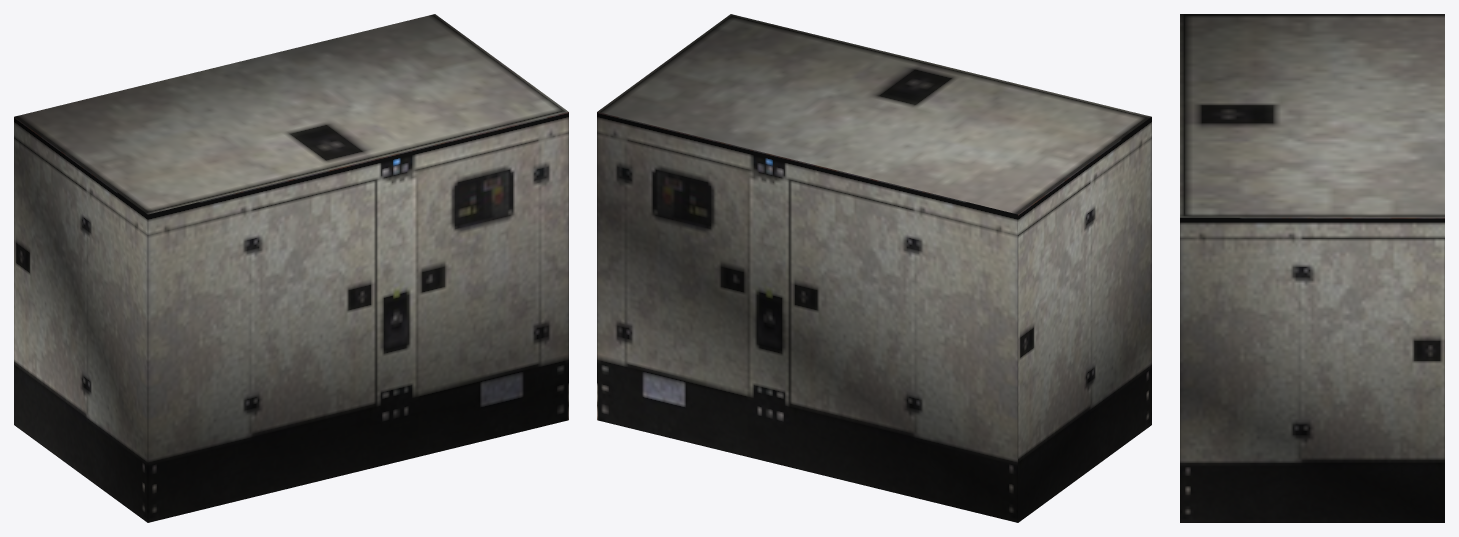
Rendered from generatorunit.glb.
3 views of the same model, side by side, from view 1: azimuth 30°, elevation 25°; view 2: azimuth 150°, elevation 25°; view 3: azimuth 270°, elevation 25° (orthographic).
Parts seen in each view (by area): view 1: GeneratorUnit; view 2: GeneratorUnit; view 3: GeneratorUnit.
Part boxes in pixels (x1,y1,x2,y2): GeneratorUnit: [14, 14, 568, 522]; GeneratorUnit: [597, 14, 1151, 522]; GeneratorUnit: [1180, 14, 1444, 522].
Bounding box in the file's own units: 2 × 1.4 × 1.1.
Materials: 1 (1 with a texture image).
